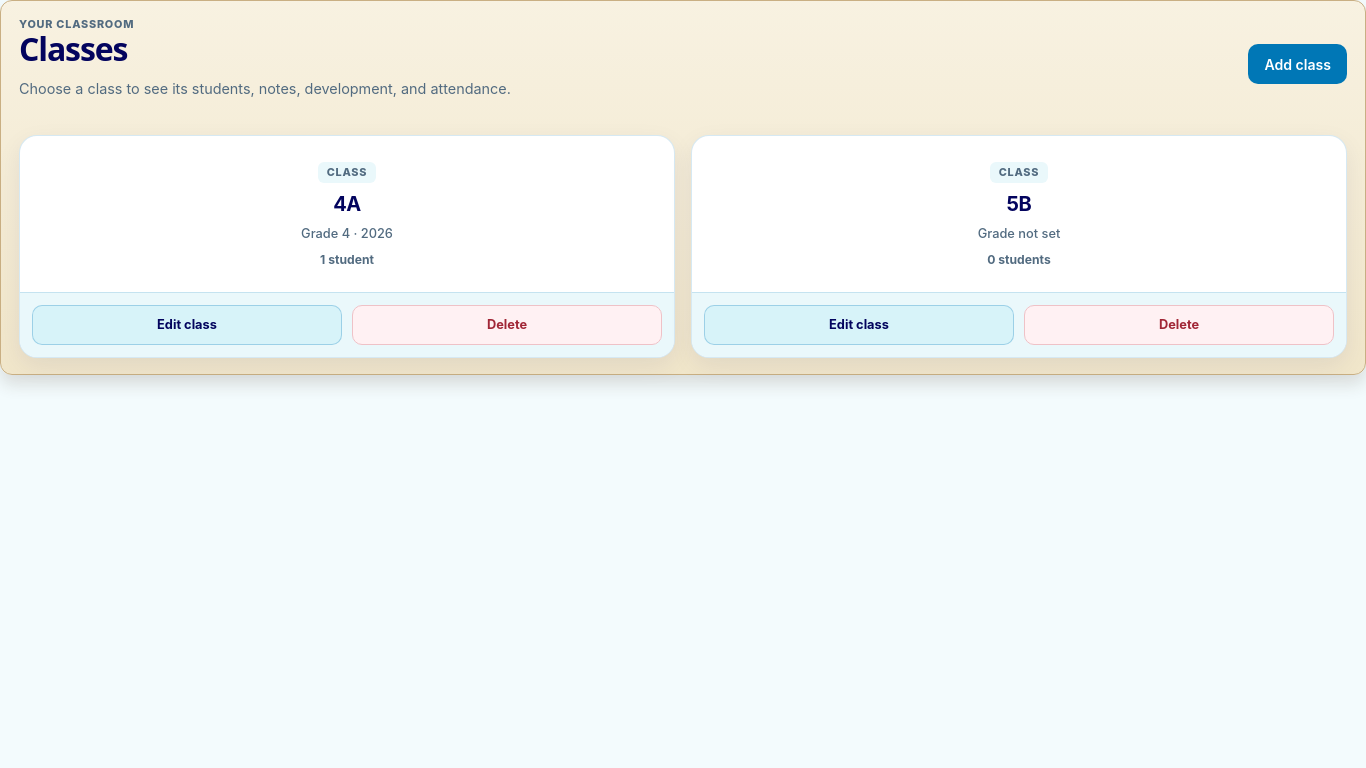
Test case: cancel discards changes, restores focus, and leaves the add-class draft untouched
Click the button with aria-label "Edit 4A" at [187, 325], box [32, 305, 342, 345]
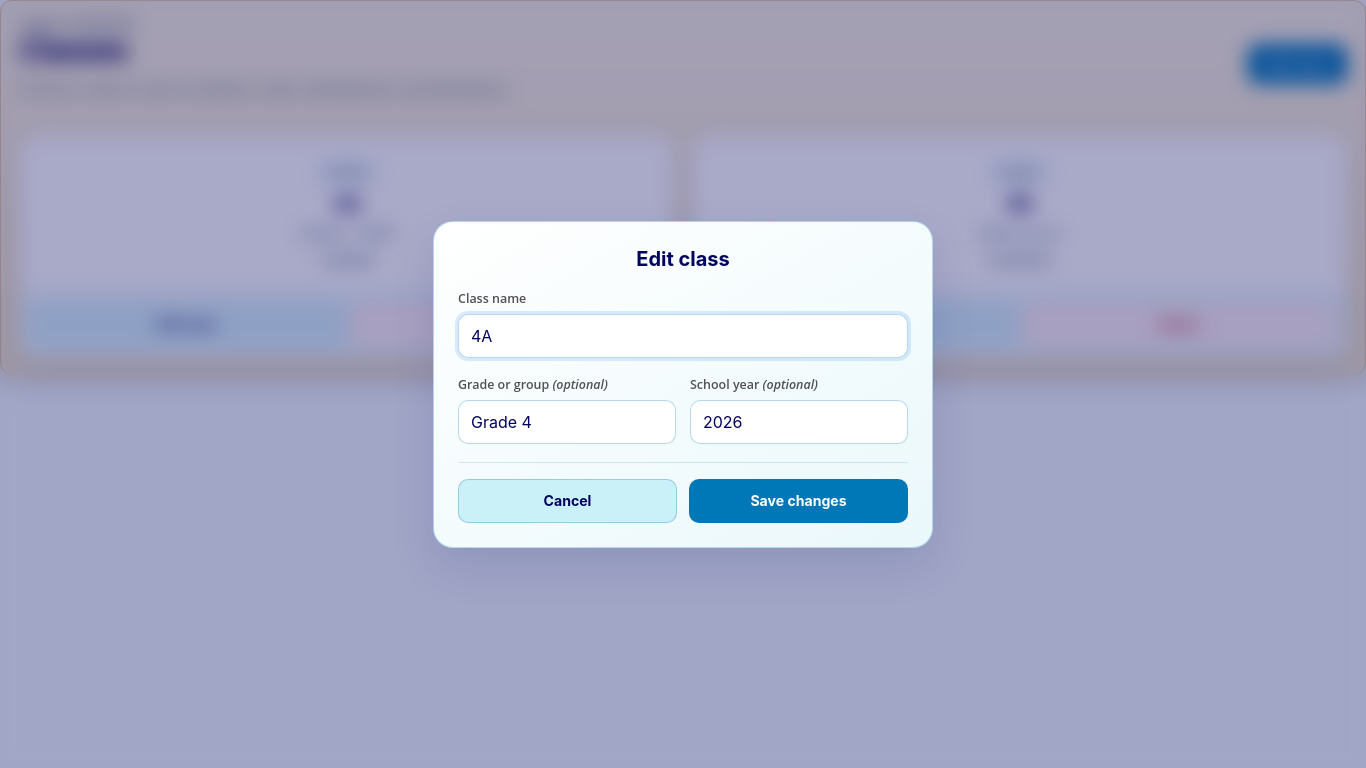
Replace the text in the field labelled "Class name" with "Discard me" at [683, 336], box [458, 314, 908, 358]
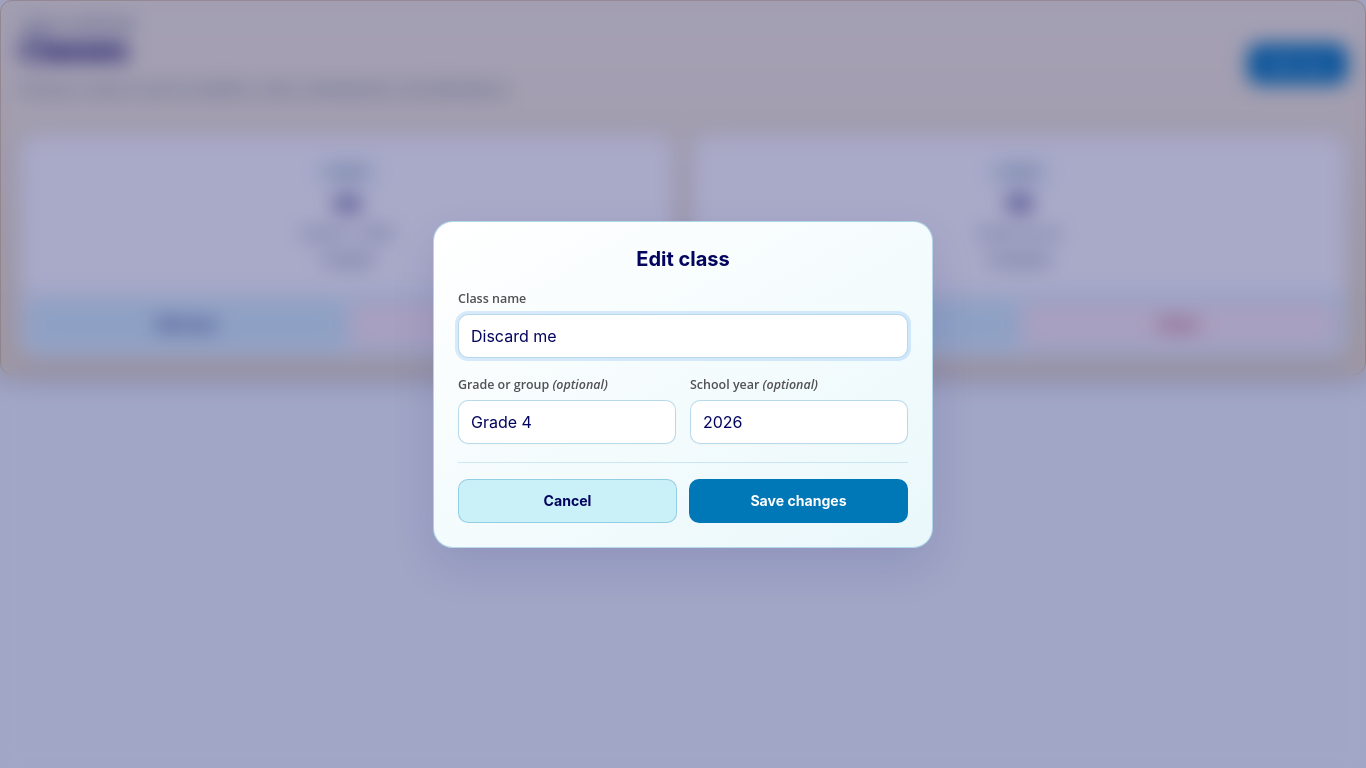
Click the button "Cancel" at [568, 500], box [458, 478, 677, 522]
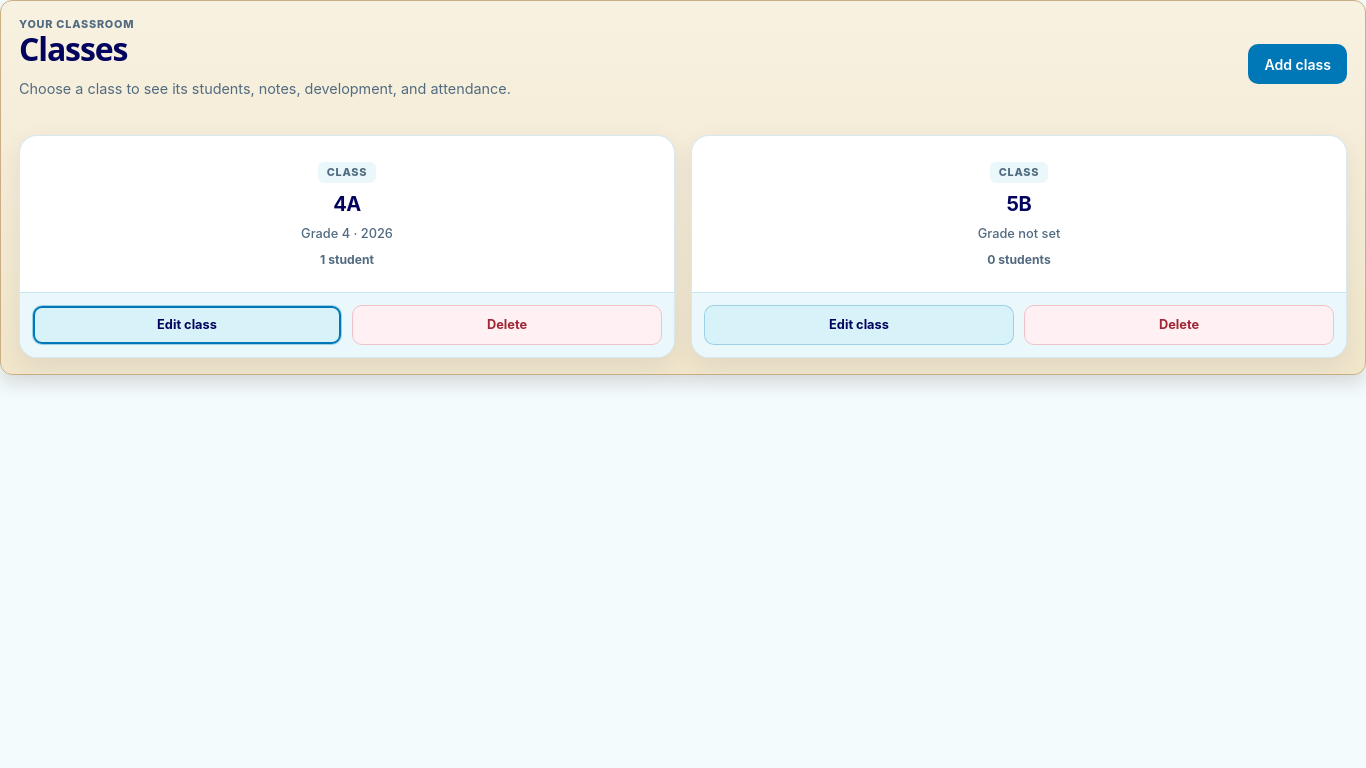
Click the button with aria-label "Edit 4A" at [187, 325], box [32, 305, 342, 345]
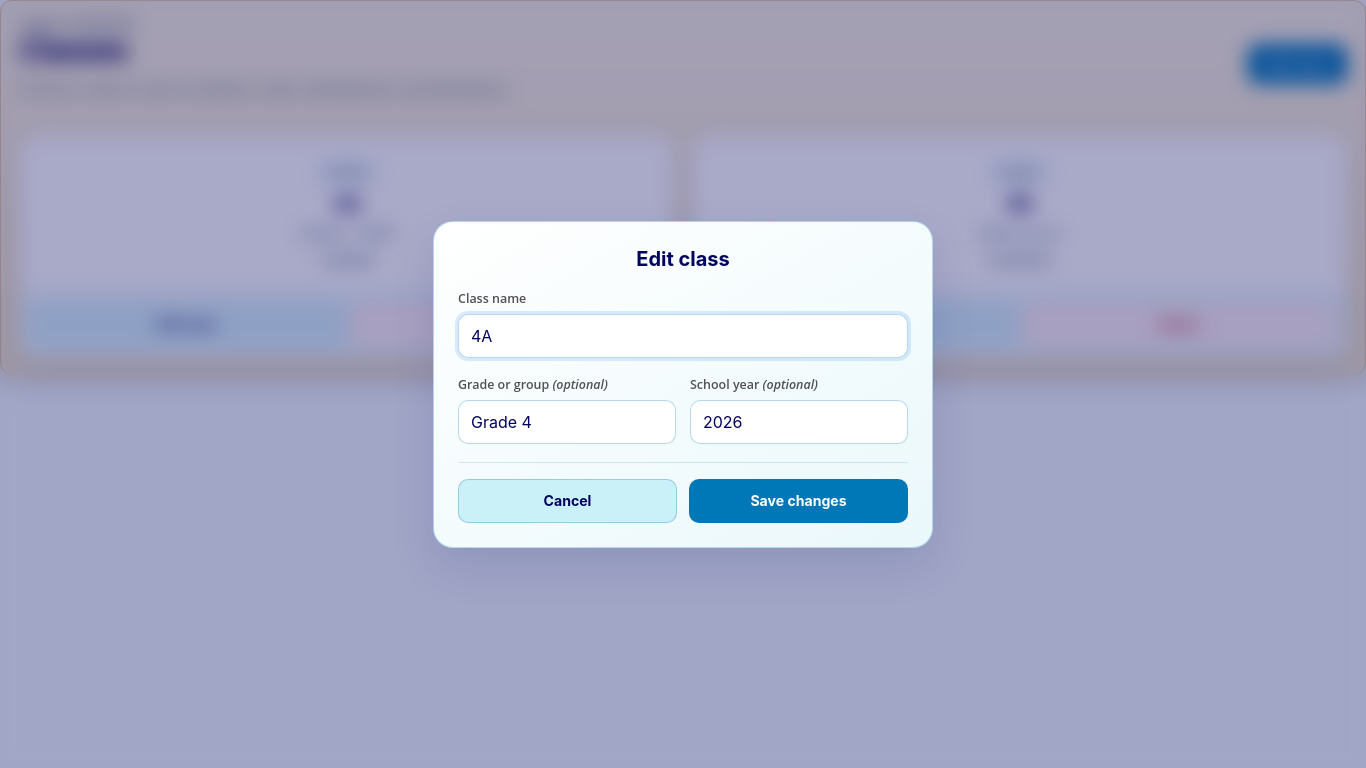
Check: the field labelled "Class name" holds "4A", box [458, 314, 908, 358]
Press Escape
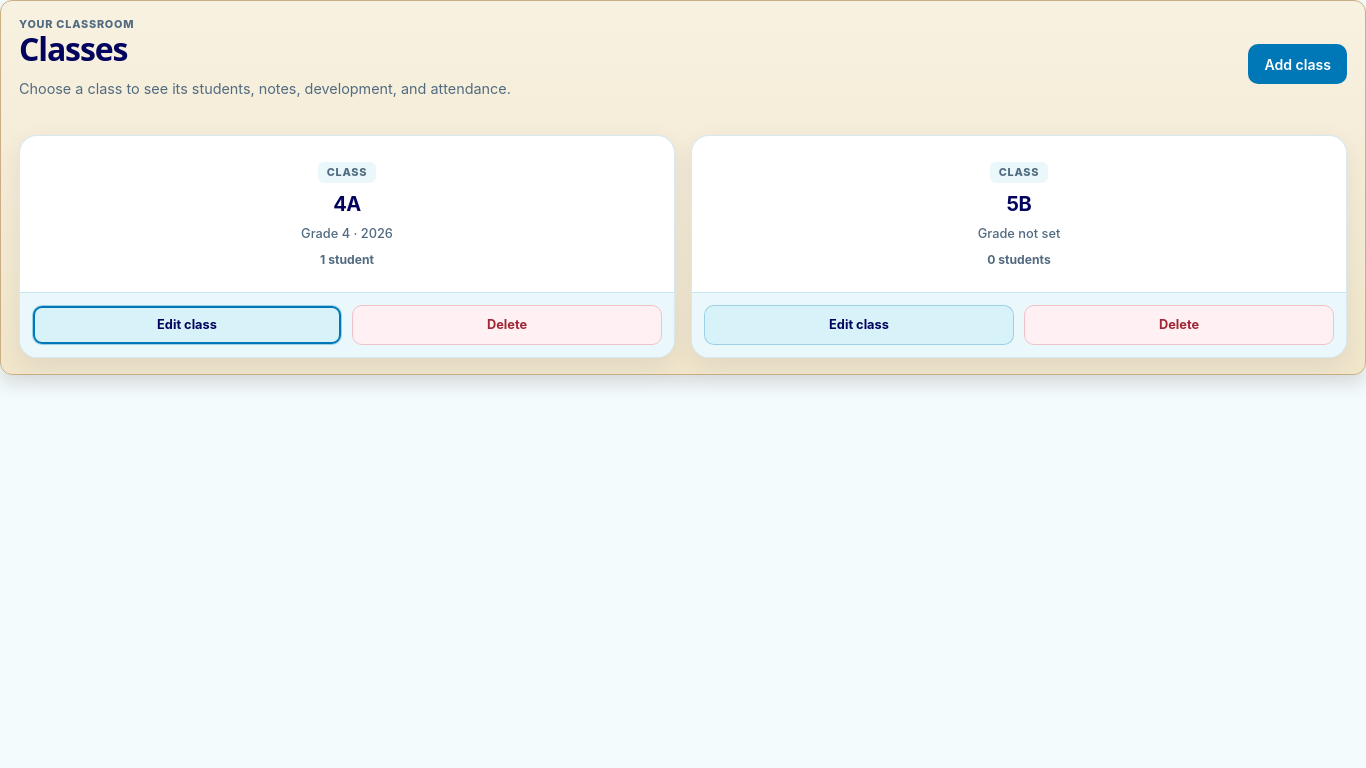
Check: the dialog is gone
Click the button "Add class" at [1298, 64], box [1248, 44, 1347, 84]
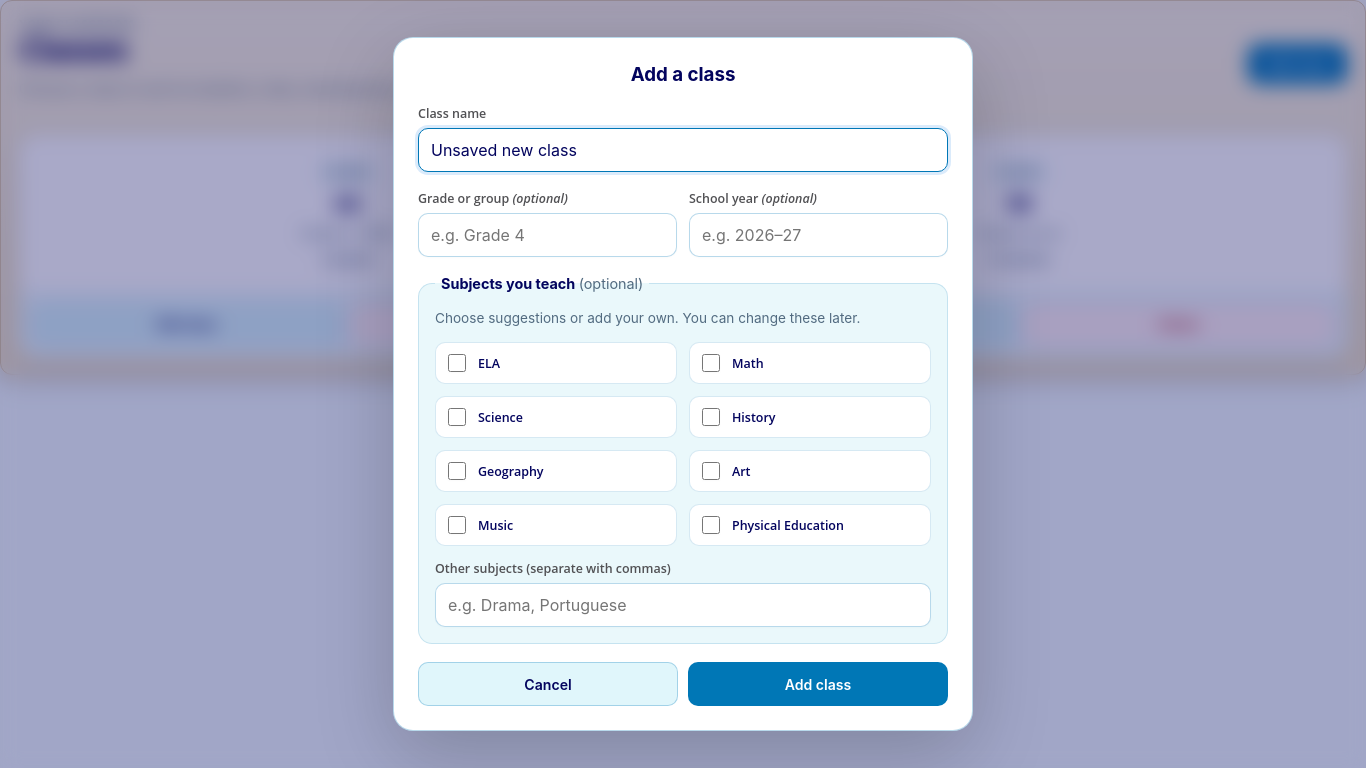
Check: the field labelled "Class name" holds "Unsaved new class", box [418, 128, 948, 172]
